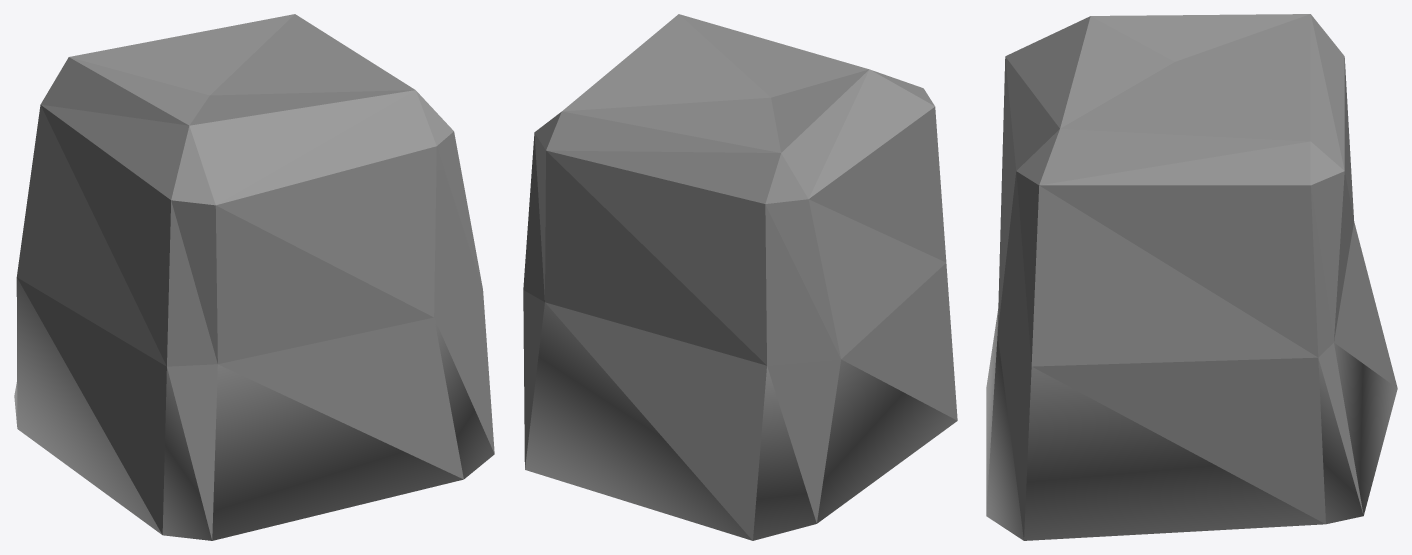
The model's file is SM_SS_Rock.fbx.
3 renders of one model, left to right at view 1: azimuth 30°, elevation 25°; view 2: azimuth 150°, elevation 25°; view 3: azimuth 270°, elevation 25°, orthographic. The views are drawn at different scales.
Parts seen in each view (by area): view 1: SM_SS_Rock; view 2: SM_SS_Rock; view 3: SM_SS_Rock.
Part boxes in pixels (left/top/right/bottom): SM_SS_Rock: left=14, top=14, right=494, bottom=540; SM_SS_Rock: left=523, top=14, right=957, bottom=540; SM_SS_Rock: left=986, top=14, right=1397, bottom=540.
Bounding box in the file's own units: 0.151 × 0.1556 × 0.1502.
